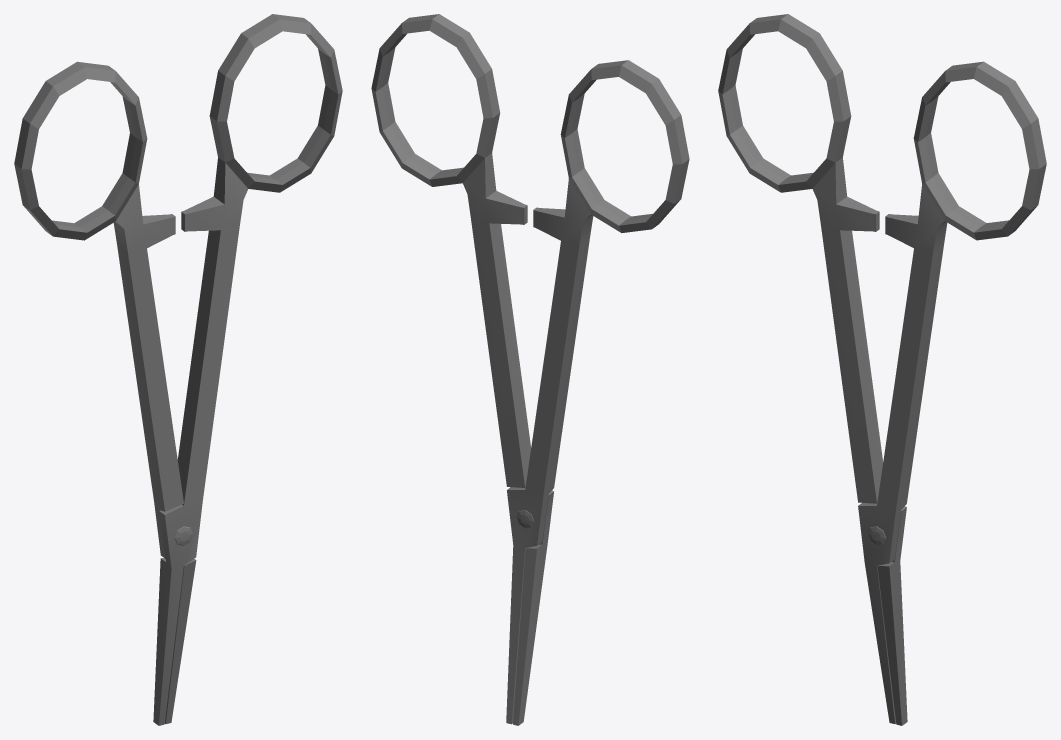
File: Scissors_Model.fbx
3 renders of one model, left to right at view 1: azimuth 30°, elevation 25°; view 2: azimuth 150°, elevation 25°; view 3: azimuth 330°, elevation 25°, orthographic. The views are drawn at different scales.
Visible parts, largest first — view 1: pTorus6, pTorus5; view 2: pTorus6, pTorus5; view 3: pTorus5, pTorus6.
Boxes of the visible parts, x1,y1,x2,y2 form: pTorus6: [153, 14, 342, 725]; pTorus5: [14, 61, 196, 723]; pTorus6: [371, 14, 553, 725]; pTorus5: [506, 60, 689, 724]; pTorus5: [718, 14, 907, 725]; pTorus6: [858, 61, 1046, 723].
Bounding box in the file's own units: 4.98 × 10.28 × 0.6815.
